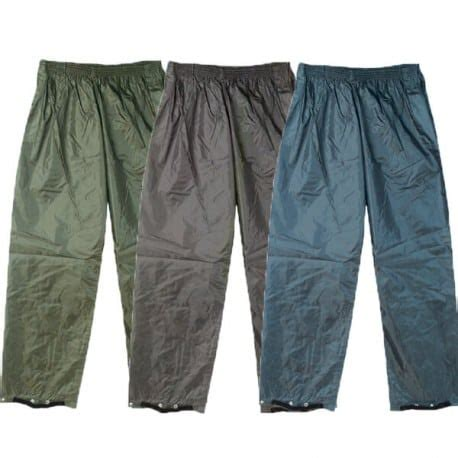nylon: (3, 58, 458, 414)
